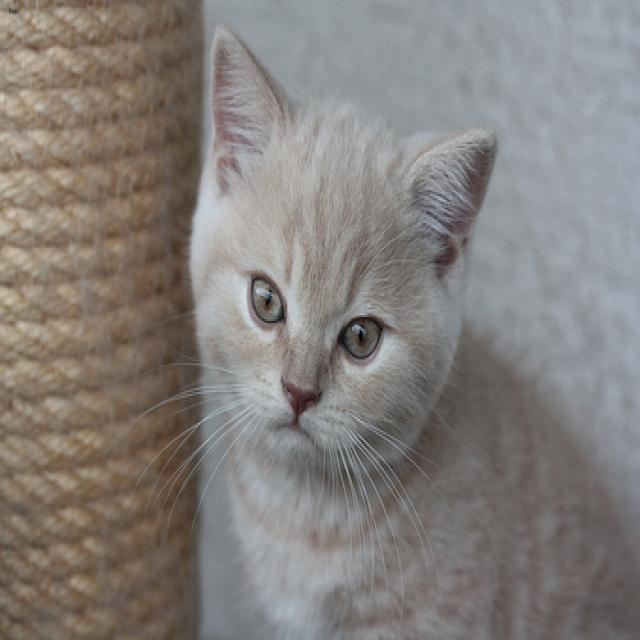British_Shorthair: (191, 25, 506, 487)
